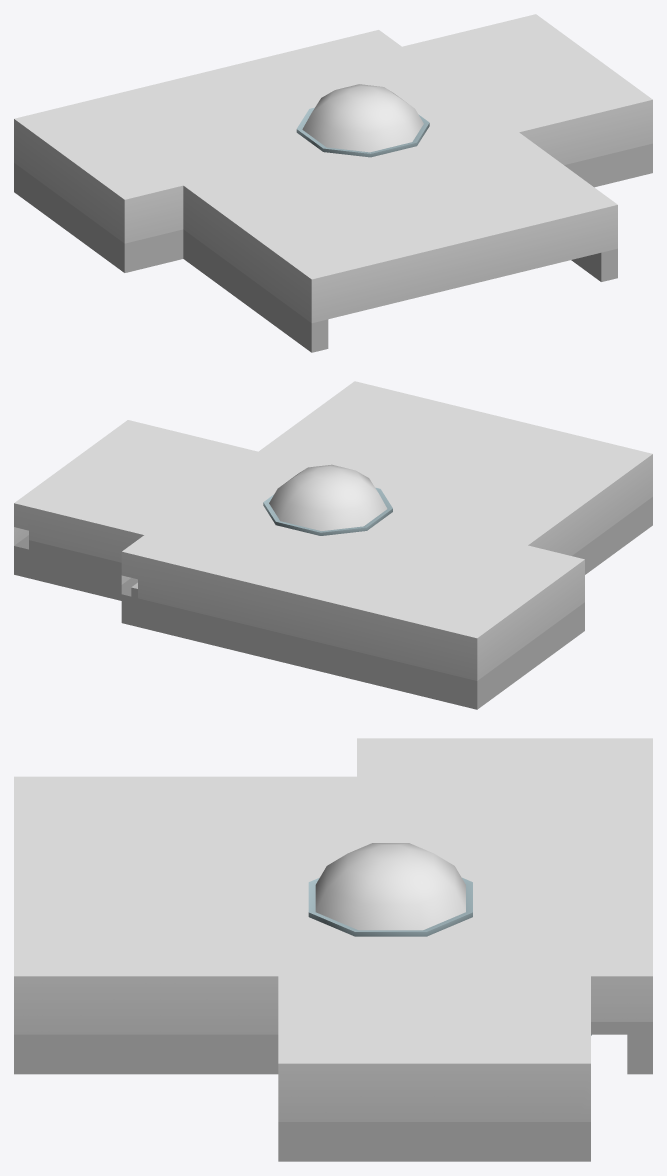
The model's file is freezer.fbx.
The picture shows the model from 3 angles, top to bottom: view 1: azimuth 30°, elevation 25°; view 2: azimuth 150°, elevation 25°; view 3: azimuth 270°, elevation 25°; orthographic projection. The views are drawn at different scales.
Parts seen in each view (by area): view 1: Cube; view 2: Cube; view 3: Cube.
Part boxes in pixels (x1,y1,x2,y2): Cube: (14,14,652,352); Cube: (14,381,652,709); Cube: (14,738,652,1161).
Size of what is drawn, in the model's own units: 124 by 26.16 by 103.
